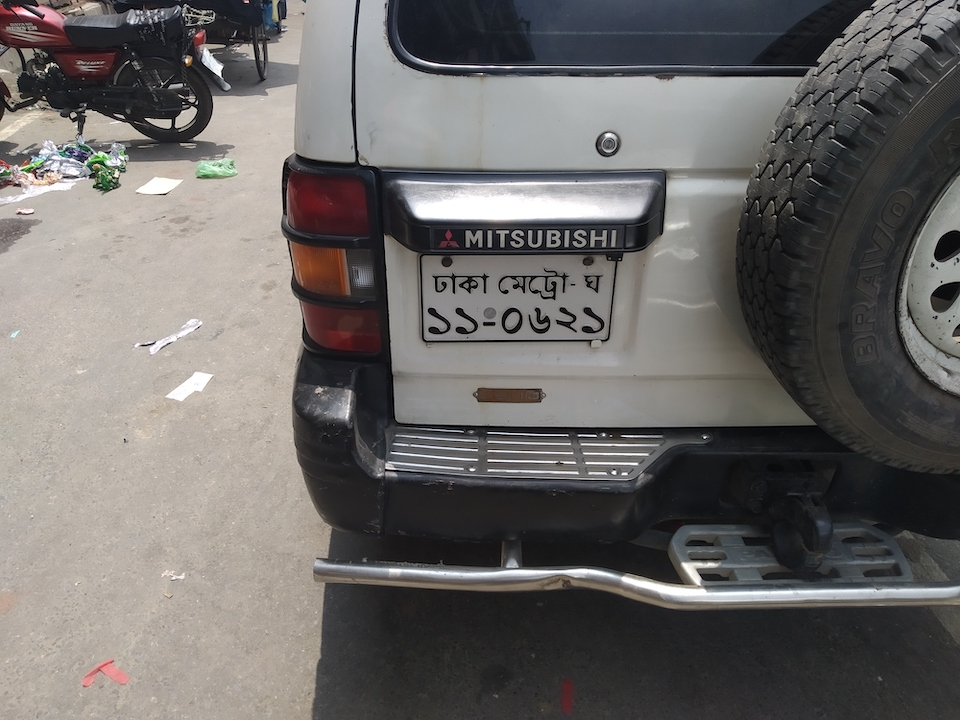registration_plate: (416, 251, 618, 343)
